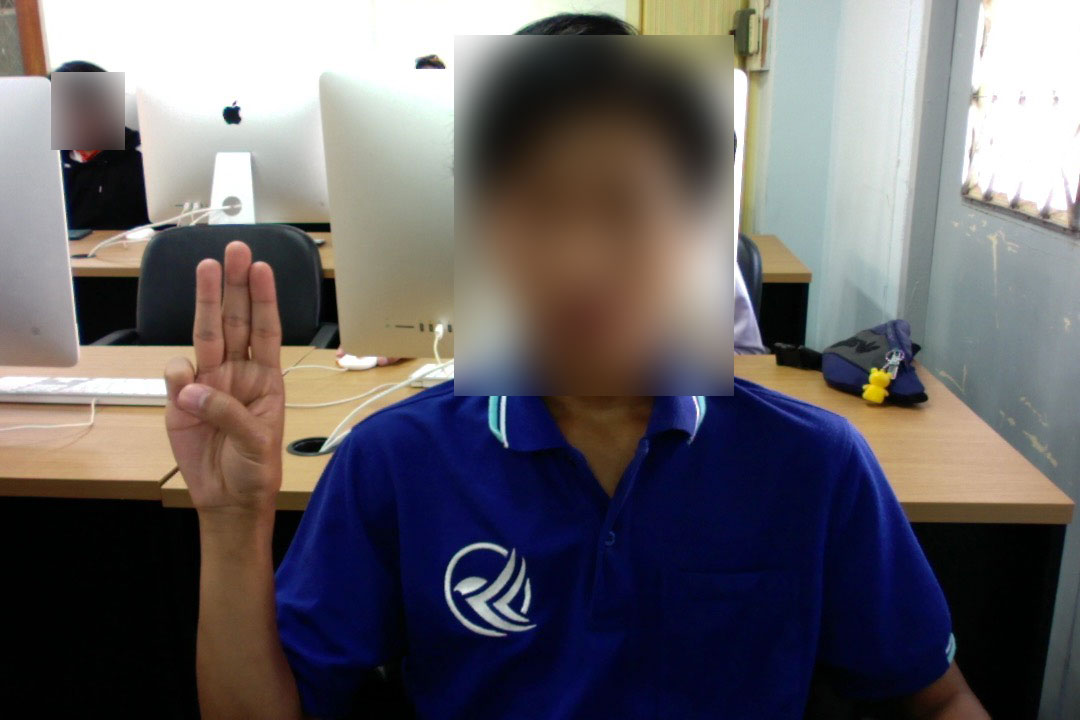wor: (150, 237, 293, 521)
